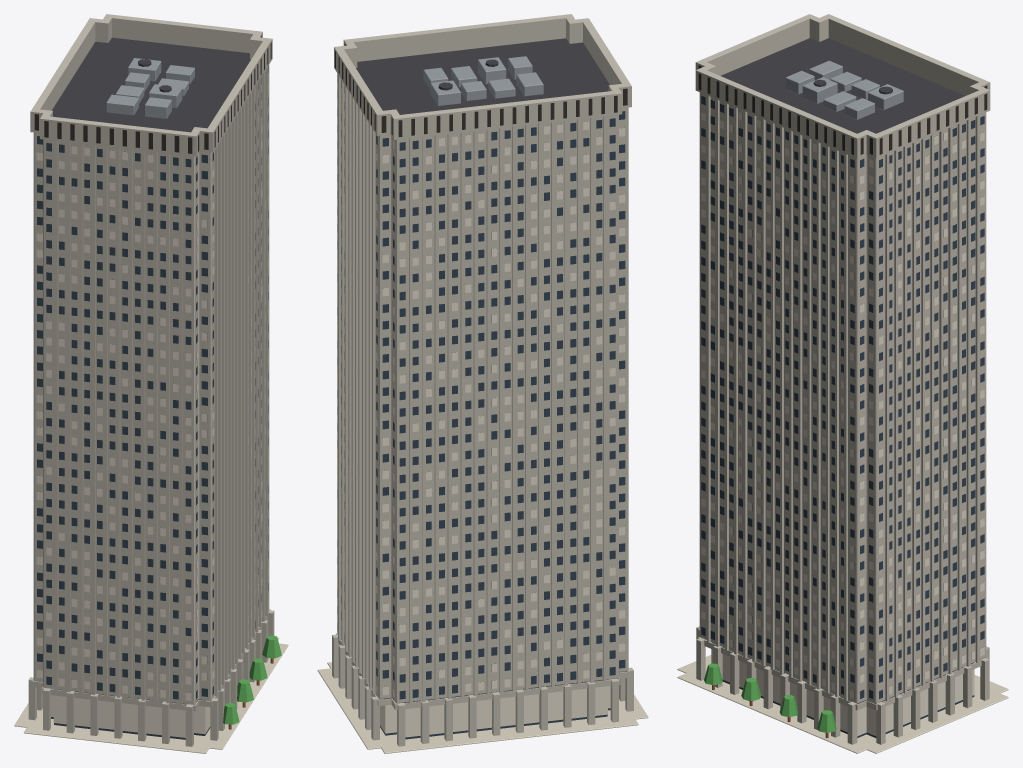
The model's file is 77-beale.glb.
3 renders of one model, left to right at view 1: azimuth 30°, elevation 25°; view 2: azimuth 150°, elevation 25°; view 3: azimuth 270°, elevation 25°, orthographic. The views are drawn at different scales.
Parts seen in each view (by area): view 1: 77-beale_body, 77-beale_night_glow; view 2: 77-beale_body, 77-beale_night_glow; view 3: 77-beale_body, 77-beale_night_glow.
Part boxes in pixels (bbox=[...]): 77-beale_body: bbox=[14, 14, 288, 753]; 77-beale_night_glow: bbox=[36, 82, 268, 737]; 77-beale_body: bbox=[317, 14, 648, 753]; 77-beale_night_glow: bbox=[337, 97, 625, 737]; 77-beale_body: bbox=[677, 14, 1008, 753]; 77-beale_night_glow: bbox=[701, 112, 984, 736].
Size of the model in its own units: 74.1 by 150 by 74.1.
